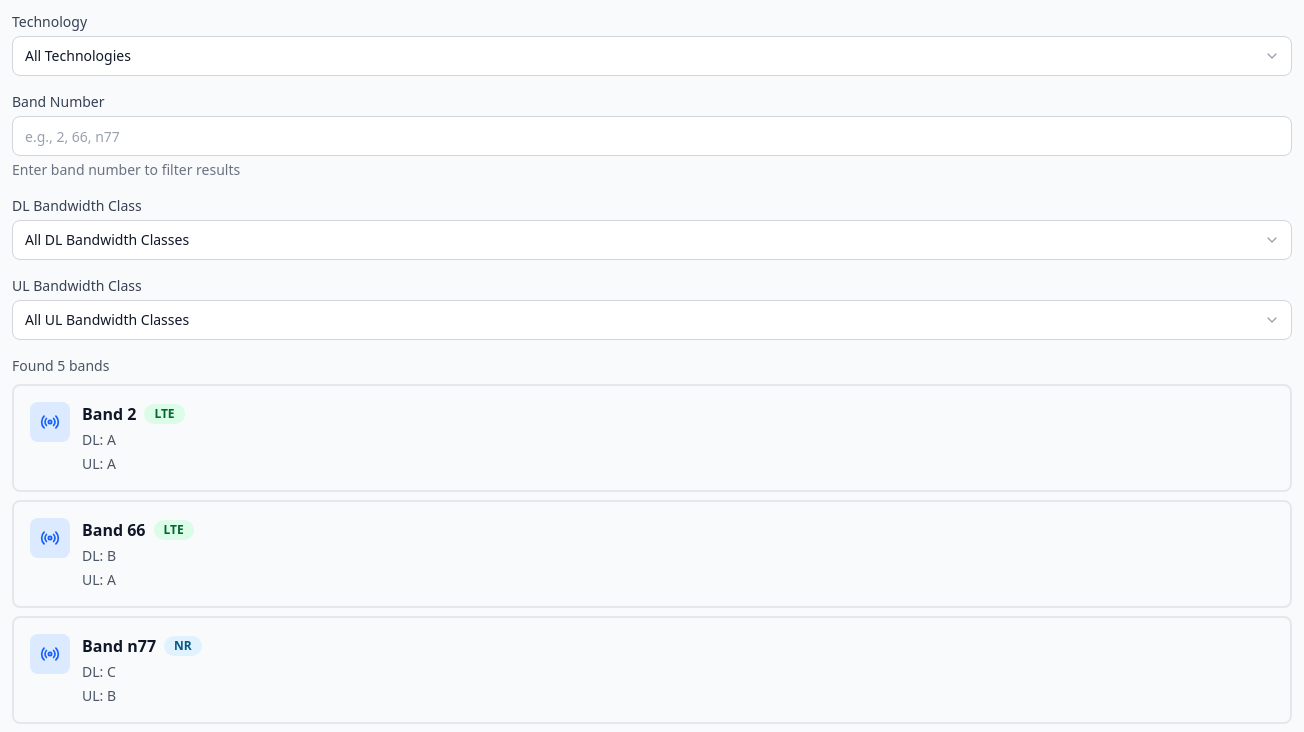
it: BandSearch › Bandwidth class filtering › filters bands by UL bandwidth class
Expected: the text "Found 5 bands" is shown, [12, 356, 109, 375]
# Select UL bandwidth class "B"
Select "B" in the dropdown labelled "UL Bandwidth Class" at point(652, 320), box [12, 300, 1292, 340]
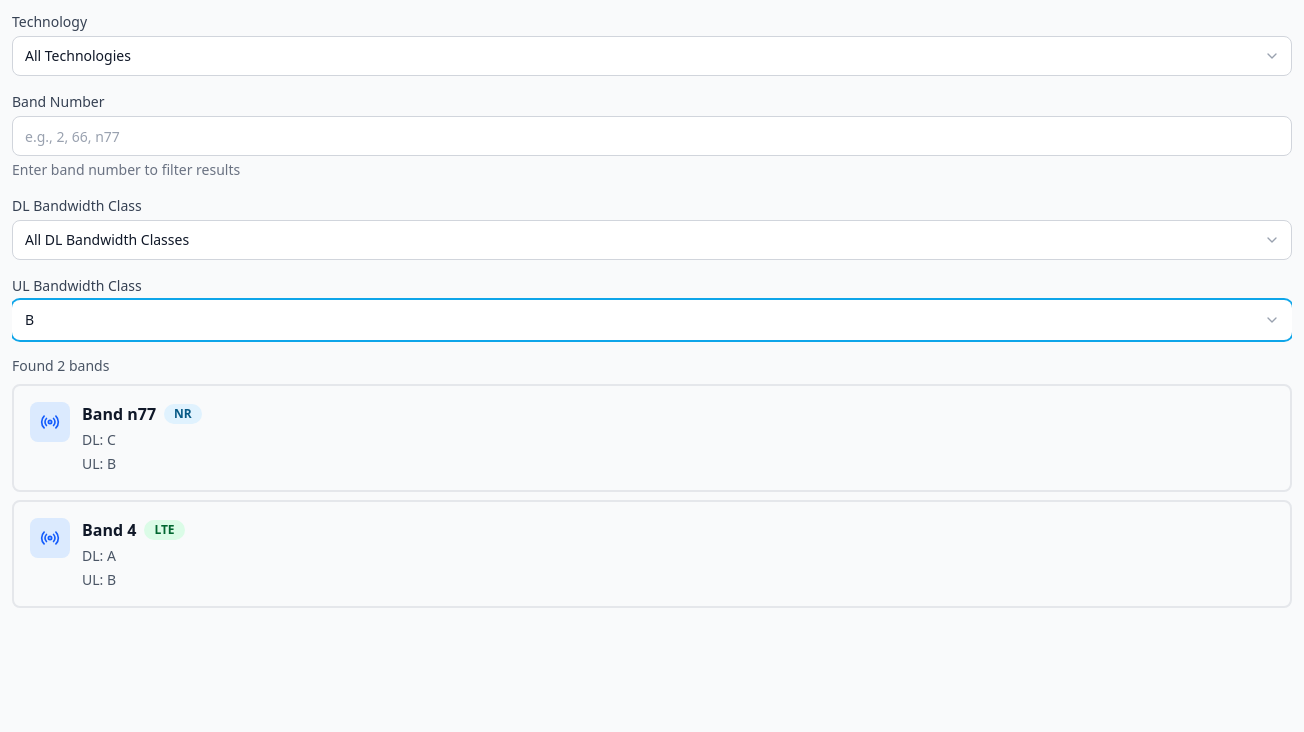
Expected: the text "Found 2 bands" is shown, [12, 356, 109, 375]
Expected: the button "Band 2" is gone
Expected: the button "Band 66" is gone
